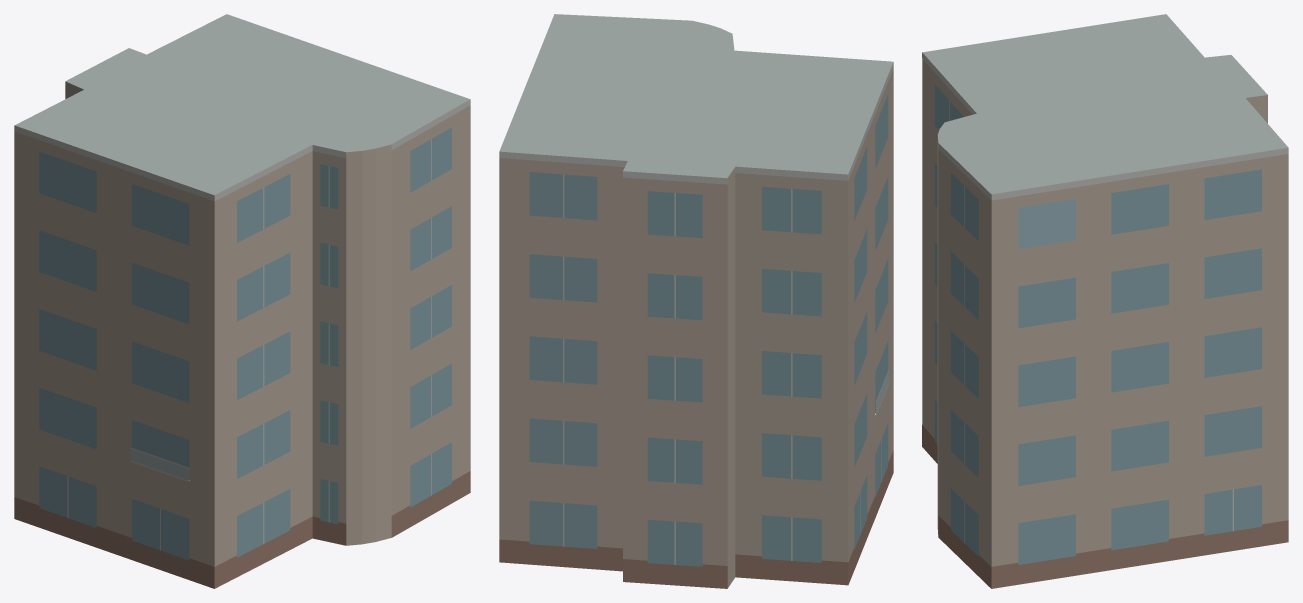
The model's file is survey-upis-33032202.glb.
3 views of the same model, side by side, from view 1: azimuth 30°, elevation 25°; view 2: azimuth 150°, elevation 25°; view 3: azimuth 270°, elevation 25° (orthographic). The views are drawn at different scales.
Visible parts, largest first — view 1: survey-upis-33032202.tmp; view 2: survey-upis-33032202.tmp; view 3: survey-upis-33032202.tmp.
Boxes of the visible parts, bbox=[...] form: survey-upis-33032202.tmp: bbox=[14, 14, 470, 588]; survey-upis-33032202.tmp: bbox=[499, 14, 893, 588]; survey-upis-33032202.tmp: bbox=[922, 14, 1288, 588].
Bounding box in the file's own units: 15.46 × 15.75 × 13.27.
